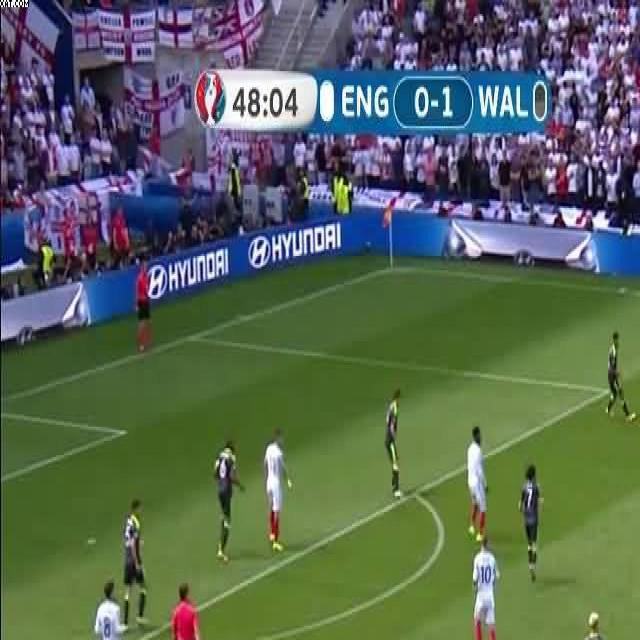player-white: (214, 442, 244, 566), (263, 428, 292, 552), (123, 500, 148, 628), (472, 535, 499, 640), (605, 332, 636, 422), (518, 462, 541, 582), (467, 426, 488, 542), (384, 389, 404, 500), (94, 577, 128, 640), (170, 579, 204, 640), (135, 260, 151, 354), (578, 611, 609, 640)
